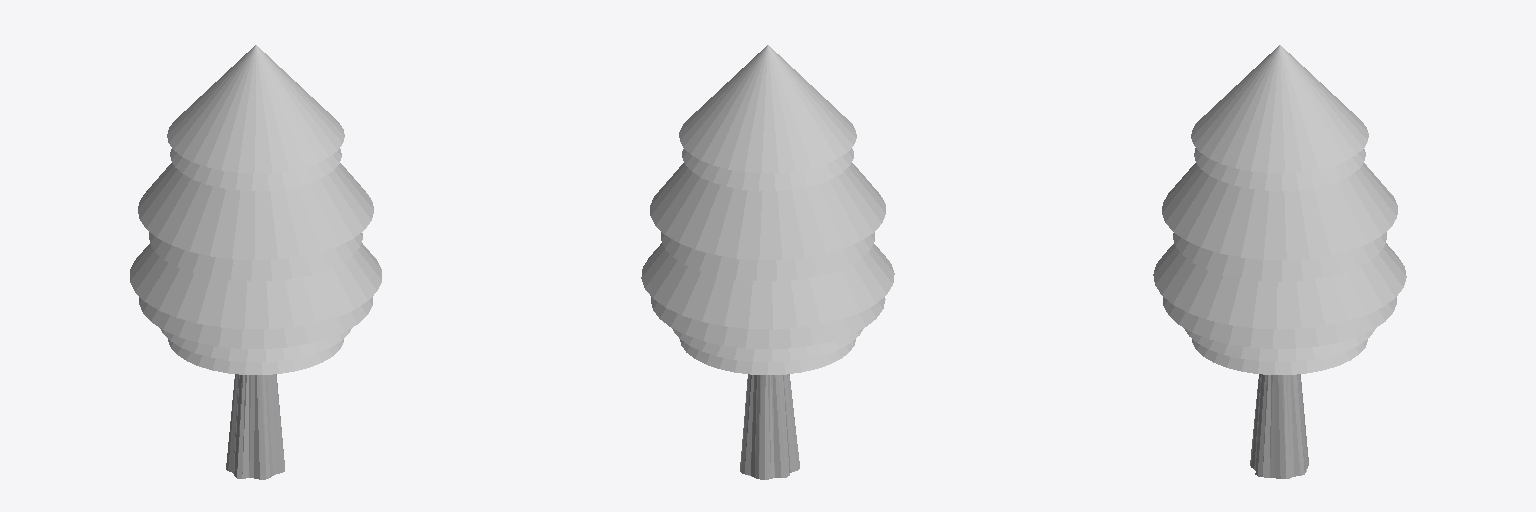
File: firTree0.obj
The picture shows the model from 3 angles: view 1: azimuth 30°, elevation 25°; view 2: azimuth 150°, elevation 25°; view 3: azimuth 270°, elevation 25°; orthographic projection.
Parts seen in each view (by area): view 1: Cone.011_Cone.002, Cone.001_Cone.017, Cone.003, Cylinder, Cone.004_Cone.014, Cone.002_Cone.001, Cone.007_Cone.018, Cone.006_Cone.016, Cone.005_Cone.015; view 2: Cone.011_Cone.002, Cone.001_Cone.017, Cone.003, Cylinder, Cone.004_Cone.014, Cone.002_Cone.001, Cone.007_Cone.018, Cone.006_Cone.016, Cone.005_Cone.015; view 3: Cone.011_Cone.002, Cone.001_Cone.017, Cone.003, Cylinder, Cone.004_Cone.014, Cone.002_Cone.001, Cone.007_Cone.018, Cone.006_Cone.016, Cone.005_Cone.015.
Boxes of the visible parts, x1,y1,x2,y2 form: Cone.011_Cone.002: [138, 163, 373, 259]; Cone.001_Cone.017: [167, 45, 344, 173]; Cone.003: [130, 243, 381, 328]; Cylinder: [226, 374, 284, 479]; Cone.004_Cone.014: [139, 297, 372, 348]; Cone.002_Cone.001: [149, 232, 362, 281]; Cone.007_Cone.018: [170, 148, 341, 190]; Cone.006_Cone.016: [160, 328, 351, 361]; Cone.005_Cone.015: [168, 339, 343, 374]; Cone.011_Cone.002: [650, 163, 885, 259]; Cone.001_Cone.017: [679, 45, 856, 172]; Cone.003: [641, 243, 894, 329]; Cylinder: [740, 374, 799, 479]; Cone.004_Cone.014: [651, 297, 885, 348]; Cone.002_Cone.001: [661, 232, 874, 280]; Cone.007_Cone.018: [682, 148, 853, 190]; Cone.006_Cone.016: [672, 328, 863, 361]; Cone.005_Cone.015: [680, 339, 855, 374]; Cone.011_Cone.002: [1162, 163, 1397, 259]; Cone.001_Cone.017: [1191, 45, 1368, 172]; Cone.003: [1153, 243, 1406, 329]; Cylinder: [1250, 374, 1308, 478]; Cone.004_Cone.014: [1163, 297, 1396, 348]; Cone.002_Cone.001: [1173, 232, 1386, 281]; Cone.007_Cone.018: [1194, 148, 1365, 190]; Cone.006_Cone.016: [1184, 328, 1375, 361]; Cone.005_Cone.015: [1192, 339, 1367, 374].
Size of the model in its own units: 2.16 by 3.98 by 2.16.